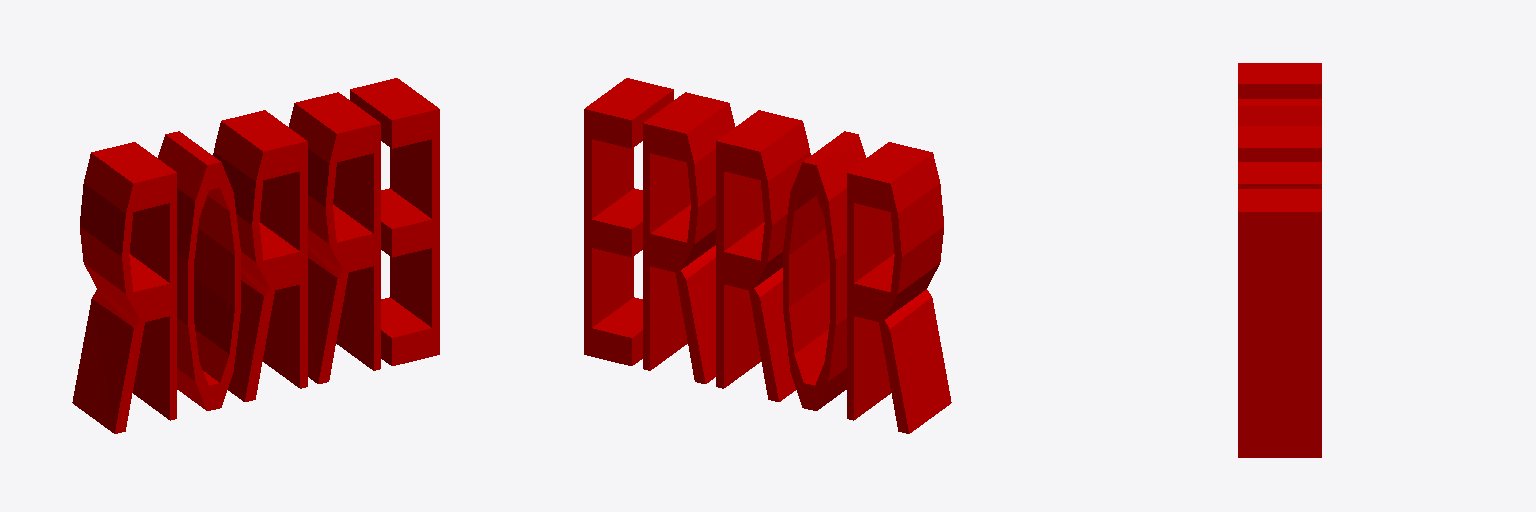
The picture shows the model from 3 angles: view 1: azimuth 30°, elevation 25°; view 2: azimuth 150°, elevation 25°; view 3: azimuth 270°, elevation 25°; orthographic projection.
Parts seen in each view (by area): view 1: cuboid, cube, O; view 2: cuboid, cube, O; view 3: cube, cuboid, O.
Part boxes in pixels (x1,y1,x2,y2): cuboid: (72,94,373,433); cube: (128,78,439,420); O: (158,131,240,410); cuboid: (650,94,951,433); cube: (584,78,895,420); O: (783,131,865,410); cube: (1238,81,1321,457); cuboid: (1238,63,1321,179); O: (1238,99,1321,125).
Size of the model in its own units: 1.38 by 1 by 0.3125.
Materials: 1 (1 with a texture image).